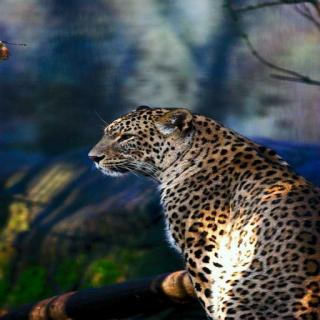Leopard: (84, 66, 320, 302)
